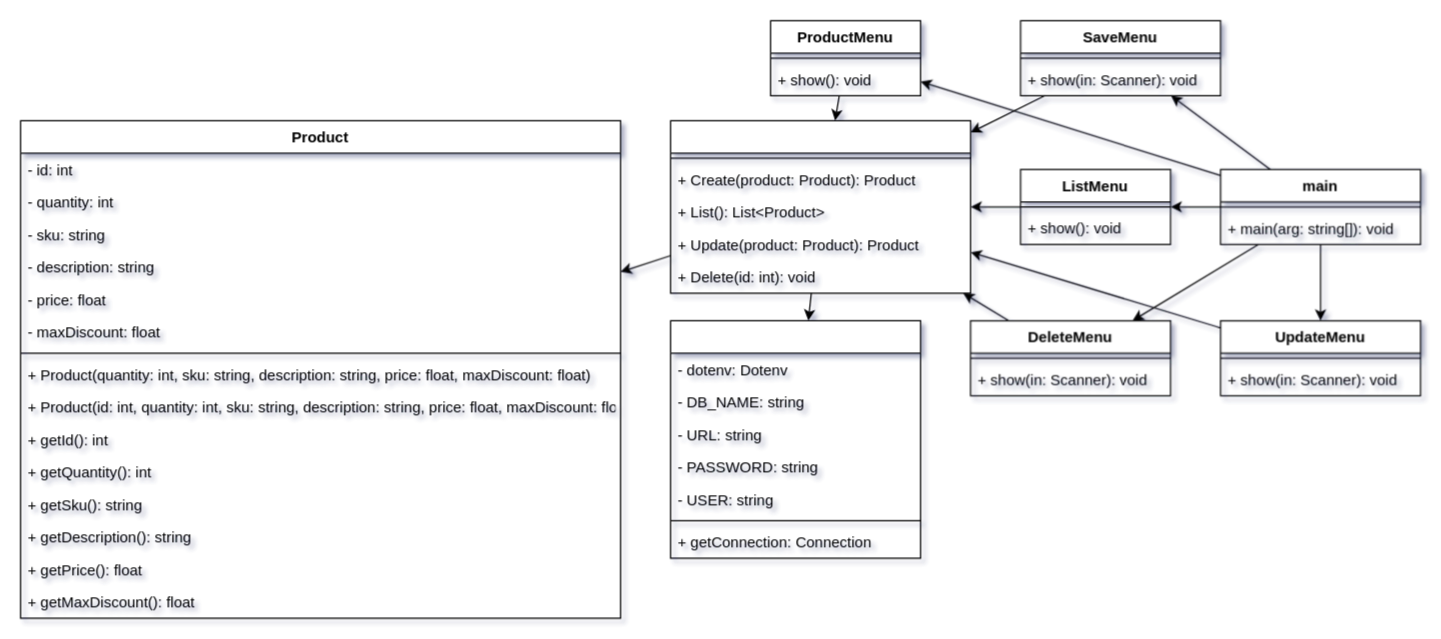
This 1441x639 diagram has some shape labels left out. Each missing label, with the box of its shape:
DatabaseConnection: (669, 319, 921, 558)
ProductDAO: (669, 119, 971, 293)
